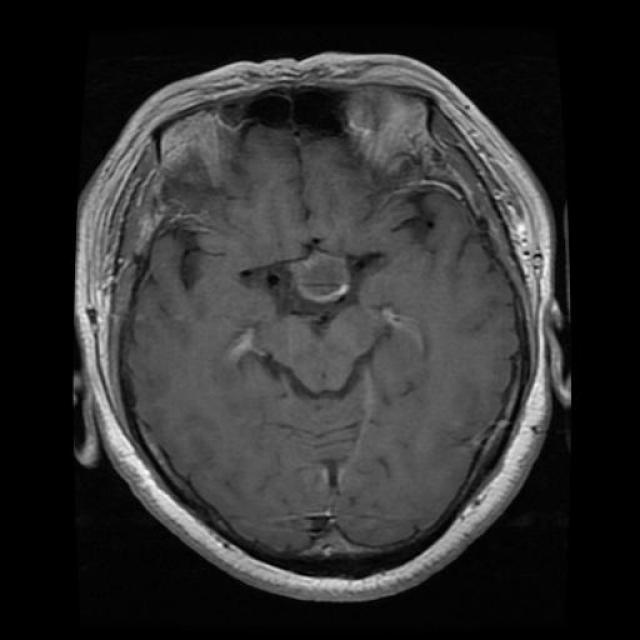Brain-Tumor: (266, 238, 379, 313)
eye: (336, 69, 452, 192), (147, 82, 252, 204)
